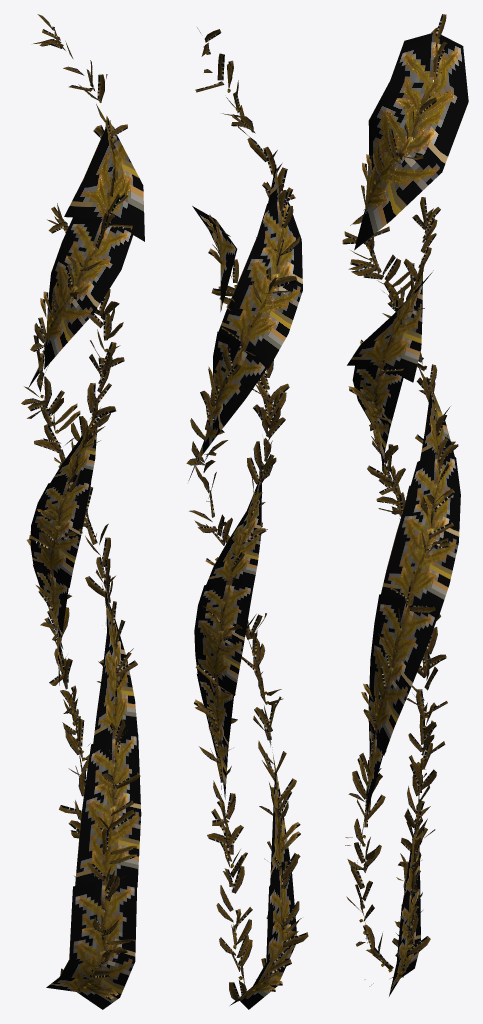
Rendered from GiantKelp_03-transformed.glb.
3 views of the same model, side by side, from view 1: azimuth 90°, elevation 25°; view 2: azimuth 150°, elevation 25°; view 3: azimuth 330°, elevation 25° (orthographic). The views are drawn at different scales.
Parts seen in each view (by area): view 1: GiantKelp_03; view 2: GiantKelp_03; view 3: GiantKelp_03.
Part boxes in pixels (x1,y1,x2,y2): GiantKelp_03: (21, 14, 144, 1009); GiantKelp_03: (186, 27, 308, 1009); GiantKelp_03: (342, 14, 468, 996).
Bounding box in the file's own units: 2.97 × 25.49 × 3.07.
1 material, 1 textured.
